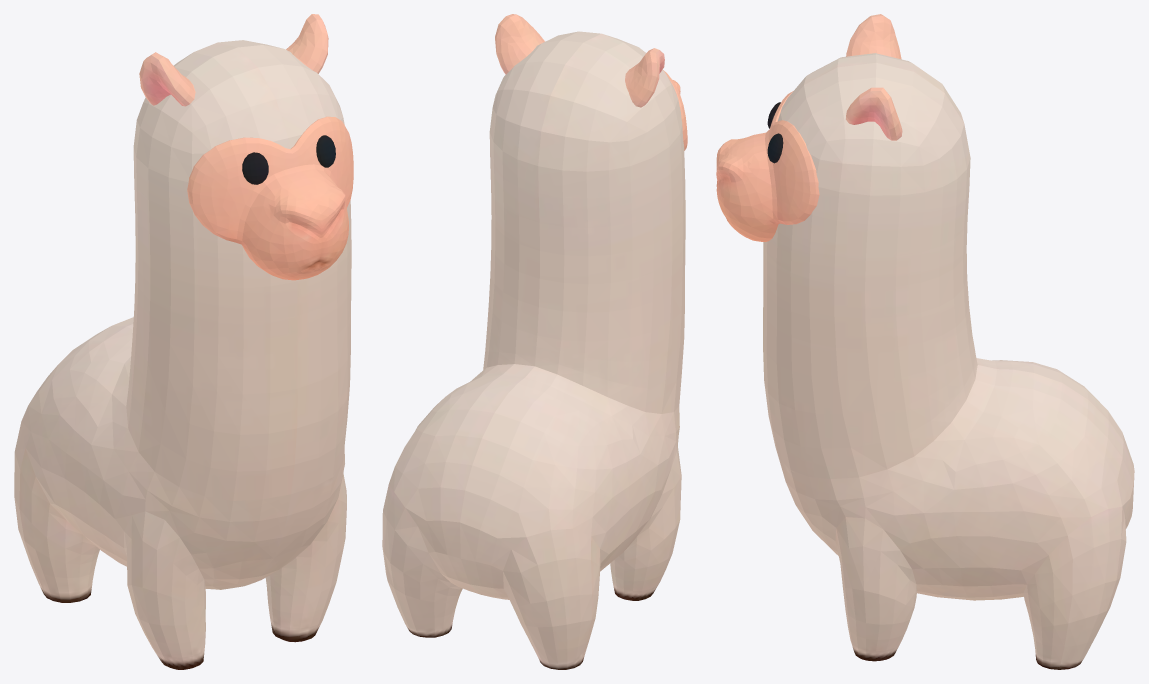
The model's file is llama.glb.
The picture shows the model from 3 angles, left to right: view 1: azimuth 30°, elevation 25°; view 2: azimuth 150°, elevation 25°; view 3: azimuth 270°, elevation 25°; orthographic projection. The views are drawn at different scales.
Parts seen in each view (by area): view 1: Alpaca; view 2: Alpaca; view 3: Alpaca.
Part boxes in pixels (<box>): Alpaca: <box>14,14,353,669</box>; Alpaca: <box>382,14,687,669</box>; Alpaca: <box>716,14,1134,669</box>.
Bounding box in the file's own units: 60.71 × 156 × 102.
1 material, 1 textured.
